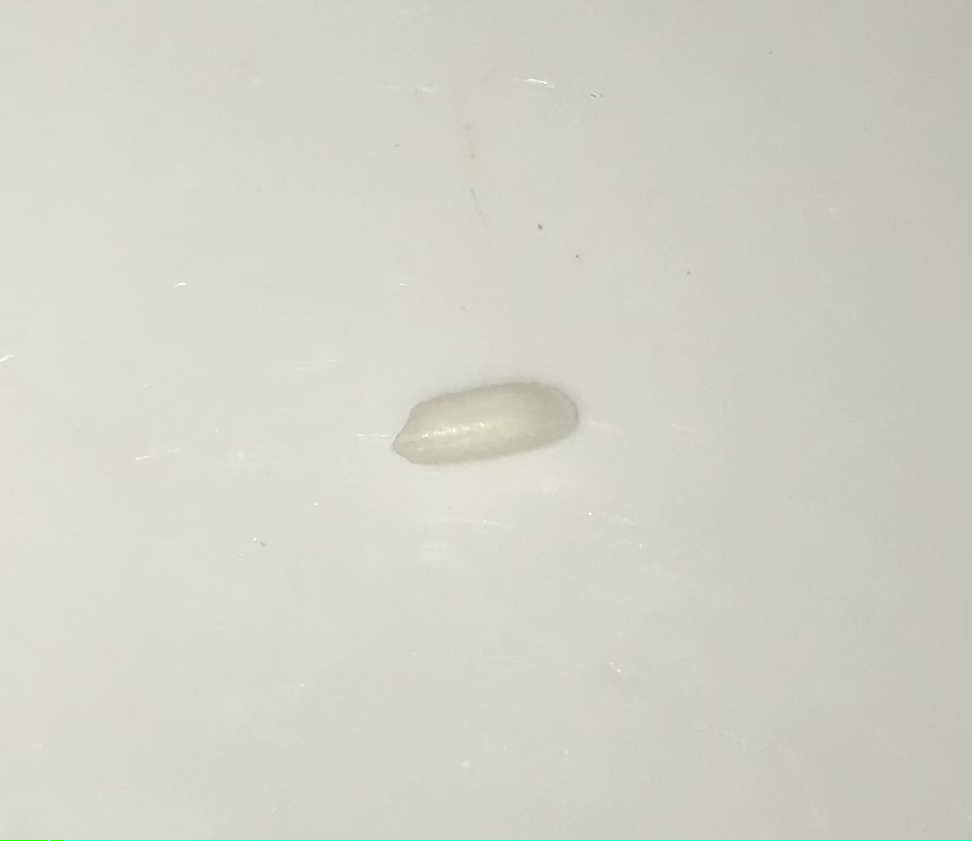Gao Lai Sua: (390, 374, 588, 484)
